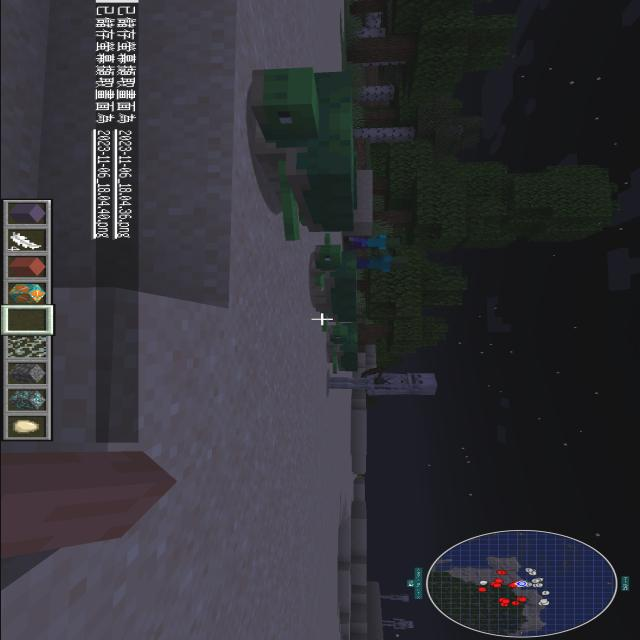Skeleton: (320, 364, 442, 398), (372, 614, 418, 632), (370, 592, 420, 605)
Zombie: (344, 252, 415, 276), (340, 231, 407, 254)
